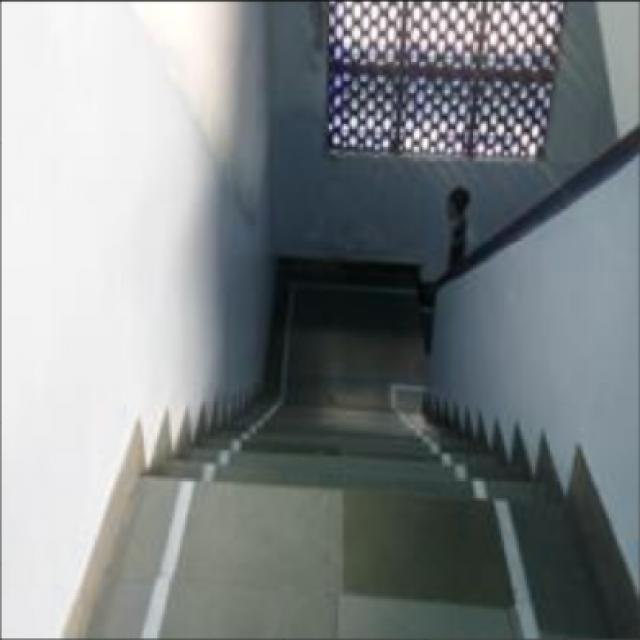stair: (180, 351, 547, 559)
